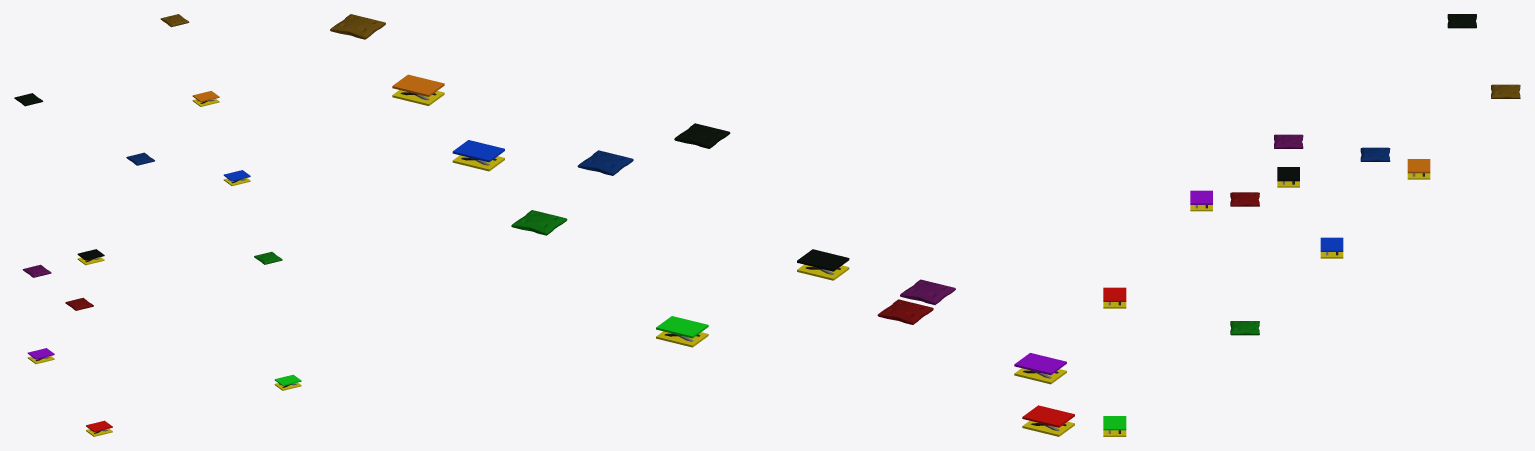
File: ladderUpMode.obj
3 views of the same model, side by side, from view 1: azimuth 30°, elevation 25°; view 2: azimuth 150°, elevation 25°; view 3: azimuth 270°, elevation 25° (orthographic). The views are drawn at different scales.
Visible parts, largest first — view 1: no part large enough to name; view 2: Cube.031_Cube.032, Cube.034_Cube.035, Cube.035_Cube.048, Cube.030_Cube.031, Cube.033_Cube.034, Cube.032_Cube.033, Cube.025_Cube.024, Cube.019_Cube.018, Cube.037, Cube.043, Cube.010_Cube.011, Cube.013_Cube.012; view 3: Cube.032_Cube.033, Cube.031_Cube.032, Cube.034_Cube.035, Cube.035_Cube.048, Cube.030_Cube.031, Cube.033_Cube.034.
Part boxes in pixels (<box>): Cube.031_Cube.032: <box>674,123,730,148</box>; Cube.034_Cube.035: <box>877,299,933,324</box>; Cube.035_Cube.048: <box>511,210,567,235</box>; Cube.030_Cube.031: <box>330,14,385,39</box>; Cube.033_Cube.034: <box>900,279,955,304</box>; Cube.032_Cube.033: <box>577,150,633,175</box>; Cube.025_Cube.024: <box>452,140,504,162</box>; Cube.019_Cube.018: <box>797,249,849,271</box>; Cube.037: <box>1014,353,1066,375</box>; Cube.043: <box>392,74,444,96</box>; Cube.010_Cube.011: <box>656,316,708,338</box>; Cube.013_Cube.012: <box>1022,405,1074,427</box>; Cube.032_Cube.033: <box>1360,147,1390,161</box>; Cube.031_Cube.032: <box>1447,14,1476,28</box>; Cube.034_Cube.035: <box>1230,192,1259,206</box>; Cube.035_Cube.048: <box>1230,321,1259,335</box>; Cube.030_Cube.031: <box>1491,84,1520,98</box>; Cube.033_Cube.034: <box>1274,134,1303,148</box>.
Bounding box in the file's own units: 9.7 × 9.15 × 9.6.
